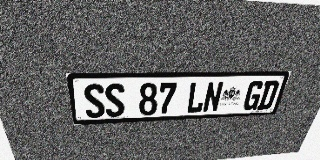7: (157, 82, 177, 115)
8: (139, 83, 158, 116)
D: (256, 80, 280, 110)
G: (242, 81, 265, 111)
L: (186, 82, 207, 113)
N: (202, 81, 224, 112)
S: (83, 84, 106, 118), (104, 83, 125, 117)
